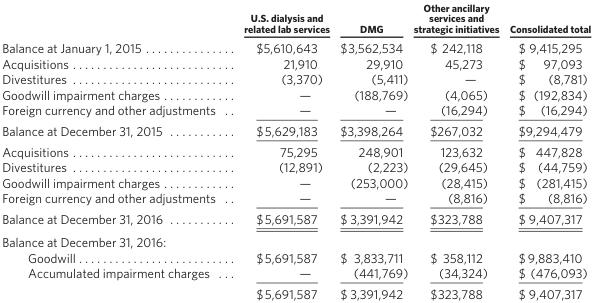table: (1, 1, 590, 300)
table column: (1, 1, 228, 300), (228, 1, 334, 300), (410, 1, 503, 300), (503, 1, 590, 300), (334, 1, 410, 300)
table column header: (1, 1, 590, 36)
table projected row header: (1, 229, 590, 249)
table row: (1, 1, 590, 36), (1, 207, 590, 229), (1, 119, 590, 140), (1, 229, 590, 249), (1, 36, 590, 55), (1, 101, 590, 119), (1, 140, 590, 158), (1, 189, 590, 207), (1, 264, 590, 282), (1, 282, 590, 300), (1, 70, 590, 86), (1, 158, 590, 174), (1, 55, 590, 70), (1, 86, 590, 101), (1, 174, 590, 189), (1, 249, 590, 264)
